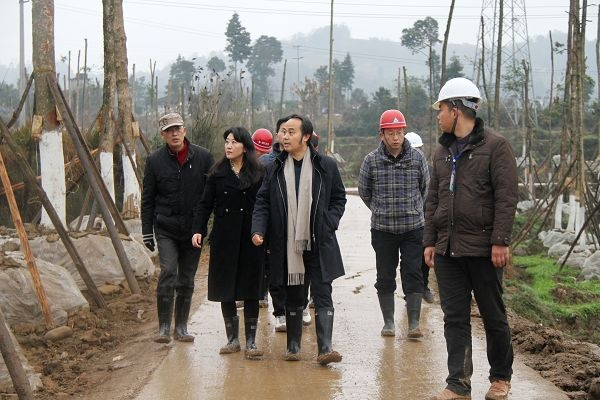none: (281, 115, 310, 151), (222, 126, 249, 158), (160, 116, 184, 148)
red: (377, 106, 407, 150), (250, 128, 274, 157)
white: (435, 76, 482, 133)
